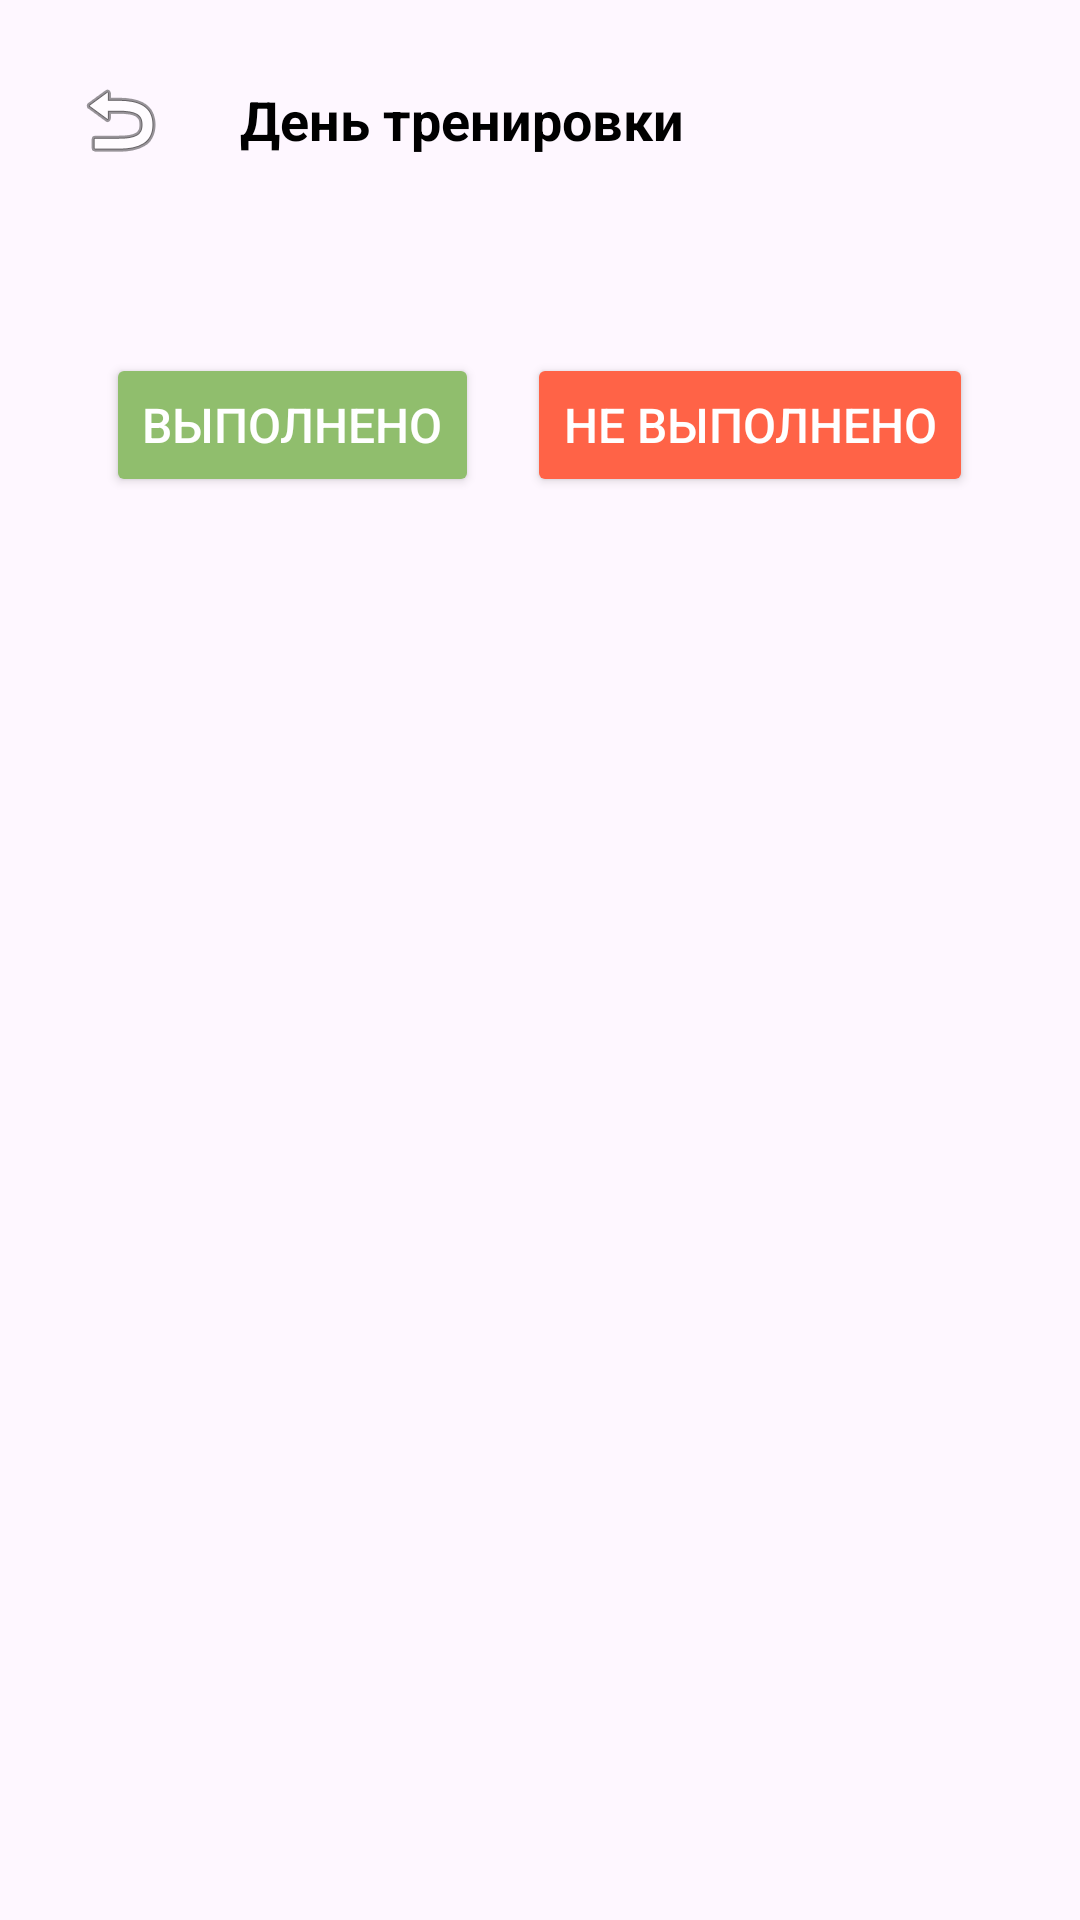

Named icons in this screenshot (1080 x 1920) and their centers, [x,y]:
Назад: [121,120]
